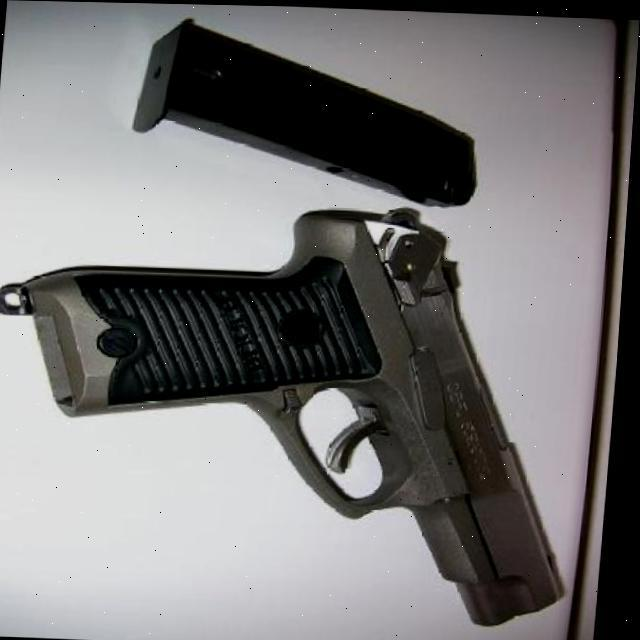gun: (5, 195, 599, 628)
